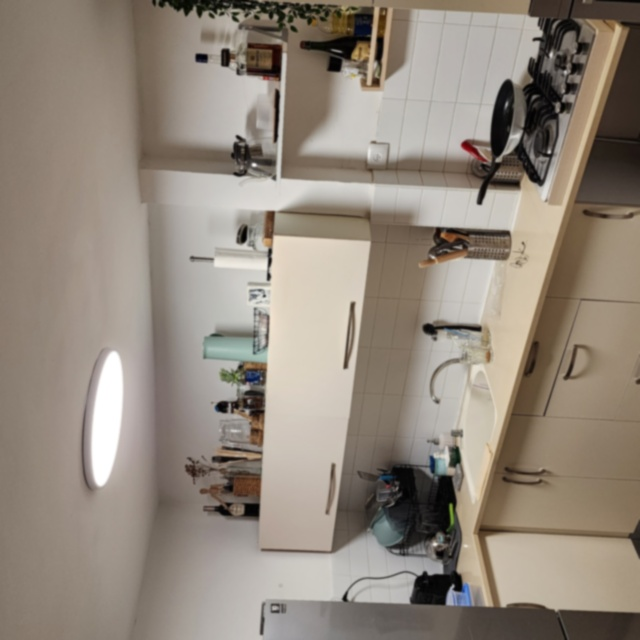glasses: (510, 242, 533, 271)
